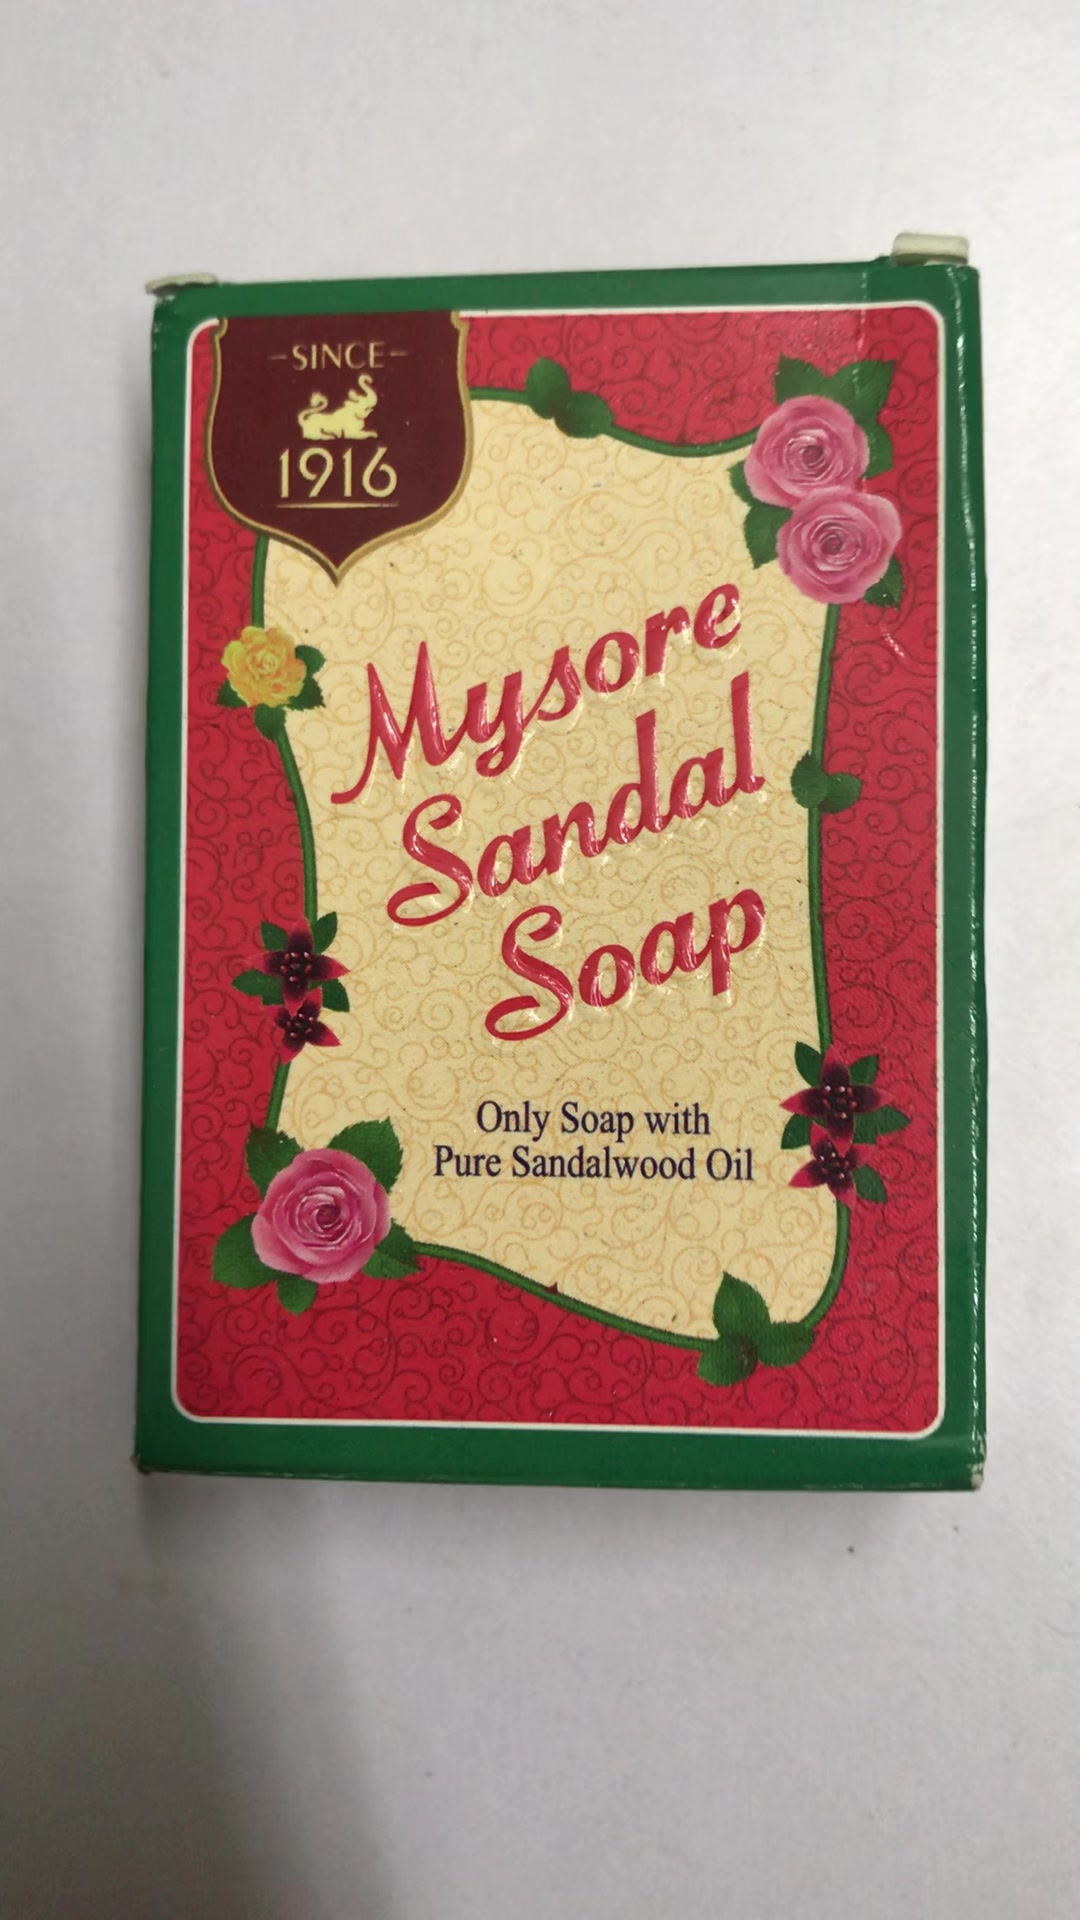mysore sandal soap: (149, 265, 988, 1484)
